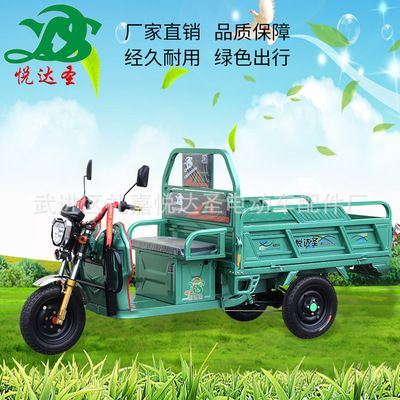empty: (24, 138, 400, 357)
